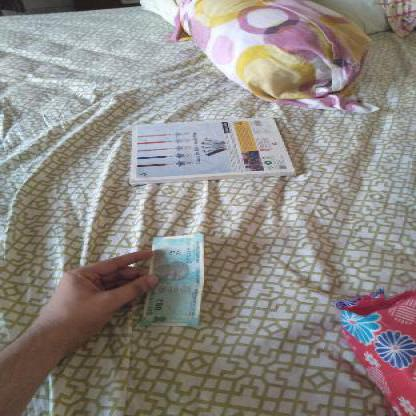New50Front: (141, 233, 202, 327)
